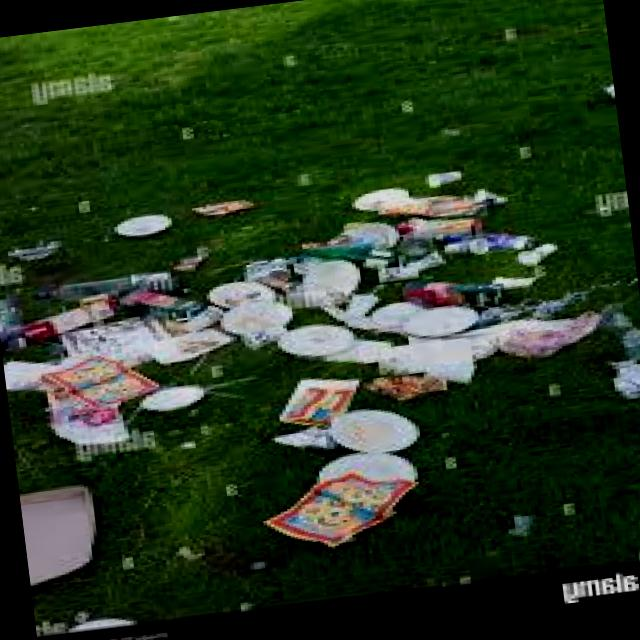garbage: (0, 143, 640, 612)
